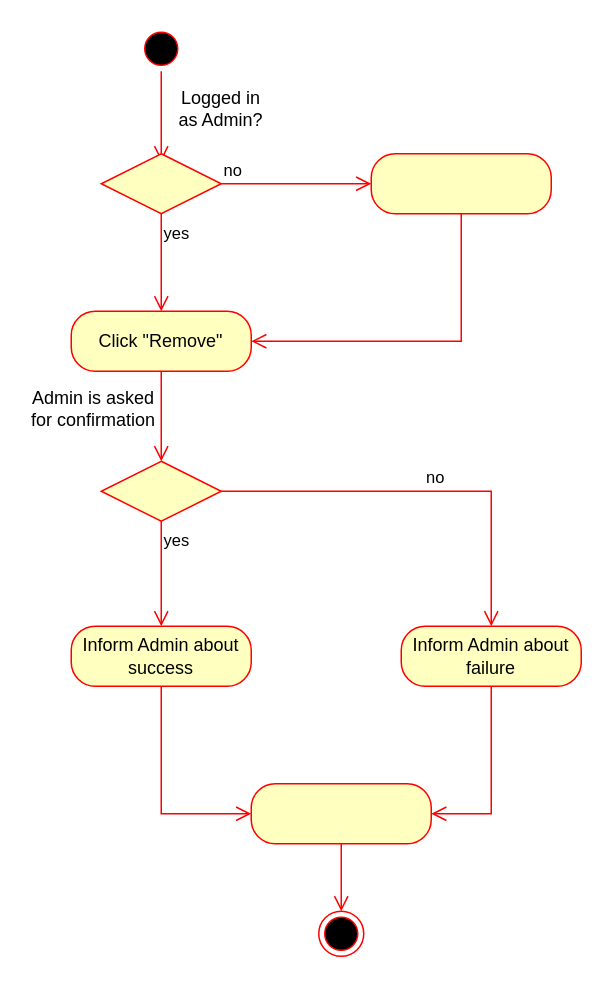
The diagram is 608 pixels wide and 983 high, and some of its shapes have lost their labels. Here are the shapes that lost their labels. From the top down, the box of each, then its label:
(370, 152, 551, 214): Log in
(250, 782, 431, 844): Redirection to admin profile
